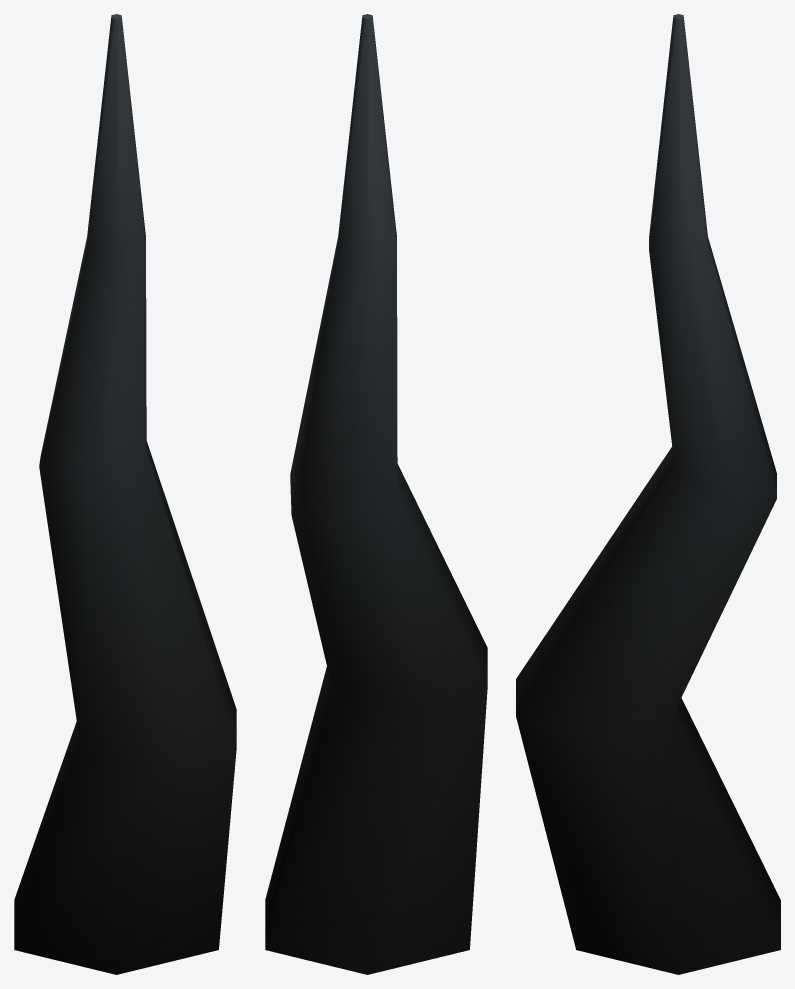
File: Spike.FBX
3 views of the same model, side by side, from view 1: azimuth 30°, elevation 25°; view 2: azimuth 150°, elevation 25°; view 3: azimuth 270°, elevation 25° (orthographic).
Parts seen in each view (by area): view 1: PRO_Spike; view 2: PRO_Spike; view 3: PRO_Spike.
Part boxes in pixels (x1,y1,x2,y2): PRO_Spike: (14, 14, 236, 974); PRO_Spike: (265, 14, 487, 974); PRO_Spike: (516, 14, 780, 974).
Size of the model in its own units: 6.15 by 26.09 by 6.89.
1 material, 1 textured.
